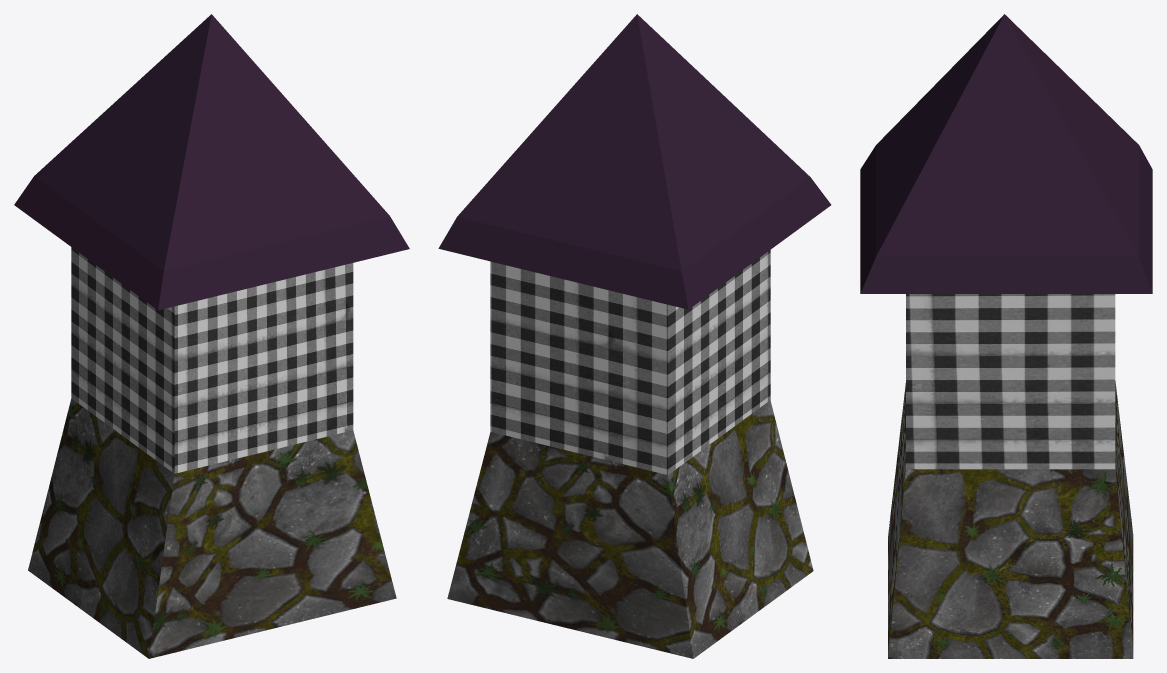
Rendered from kotakkecil.fbx.
The picture shows the model from 3 angles, left to right: view 1: azimuth 30°, elevation 25°; view 2: azimuth 150°, elevation 25°; view 3: azimuth 270°, elevation 25°; orthographic projection. The views are drawn at different scales.
Parts seen in each view (by area): view 1: Cube.008; view 2: Cube.008; view 3: Cube.008.
Boxes of the visible parts, box(x1,y1,x2,y2) form: Cube.008: box(14, 14, 409, 658); Cube.008: box(438, 14, 831, 658); Cube.008: box(860, 14, 1152, 658).
Bounding box in the file's own units: 156 × 338 × 154.
3 materials, 2 textured.
